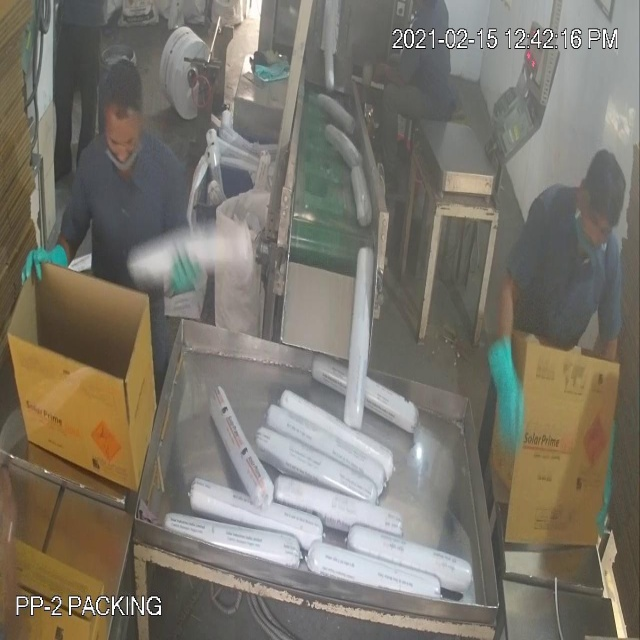Guantes: (480, 320, 534, 460)
